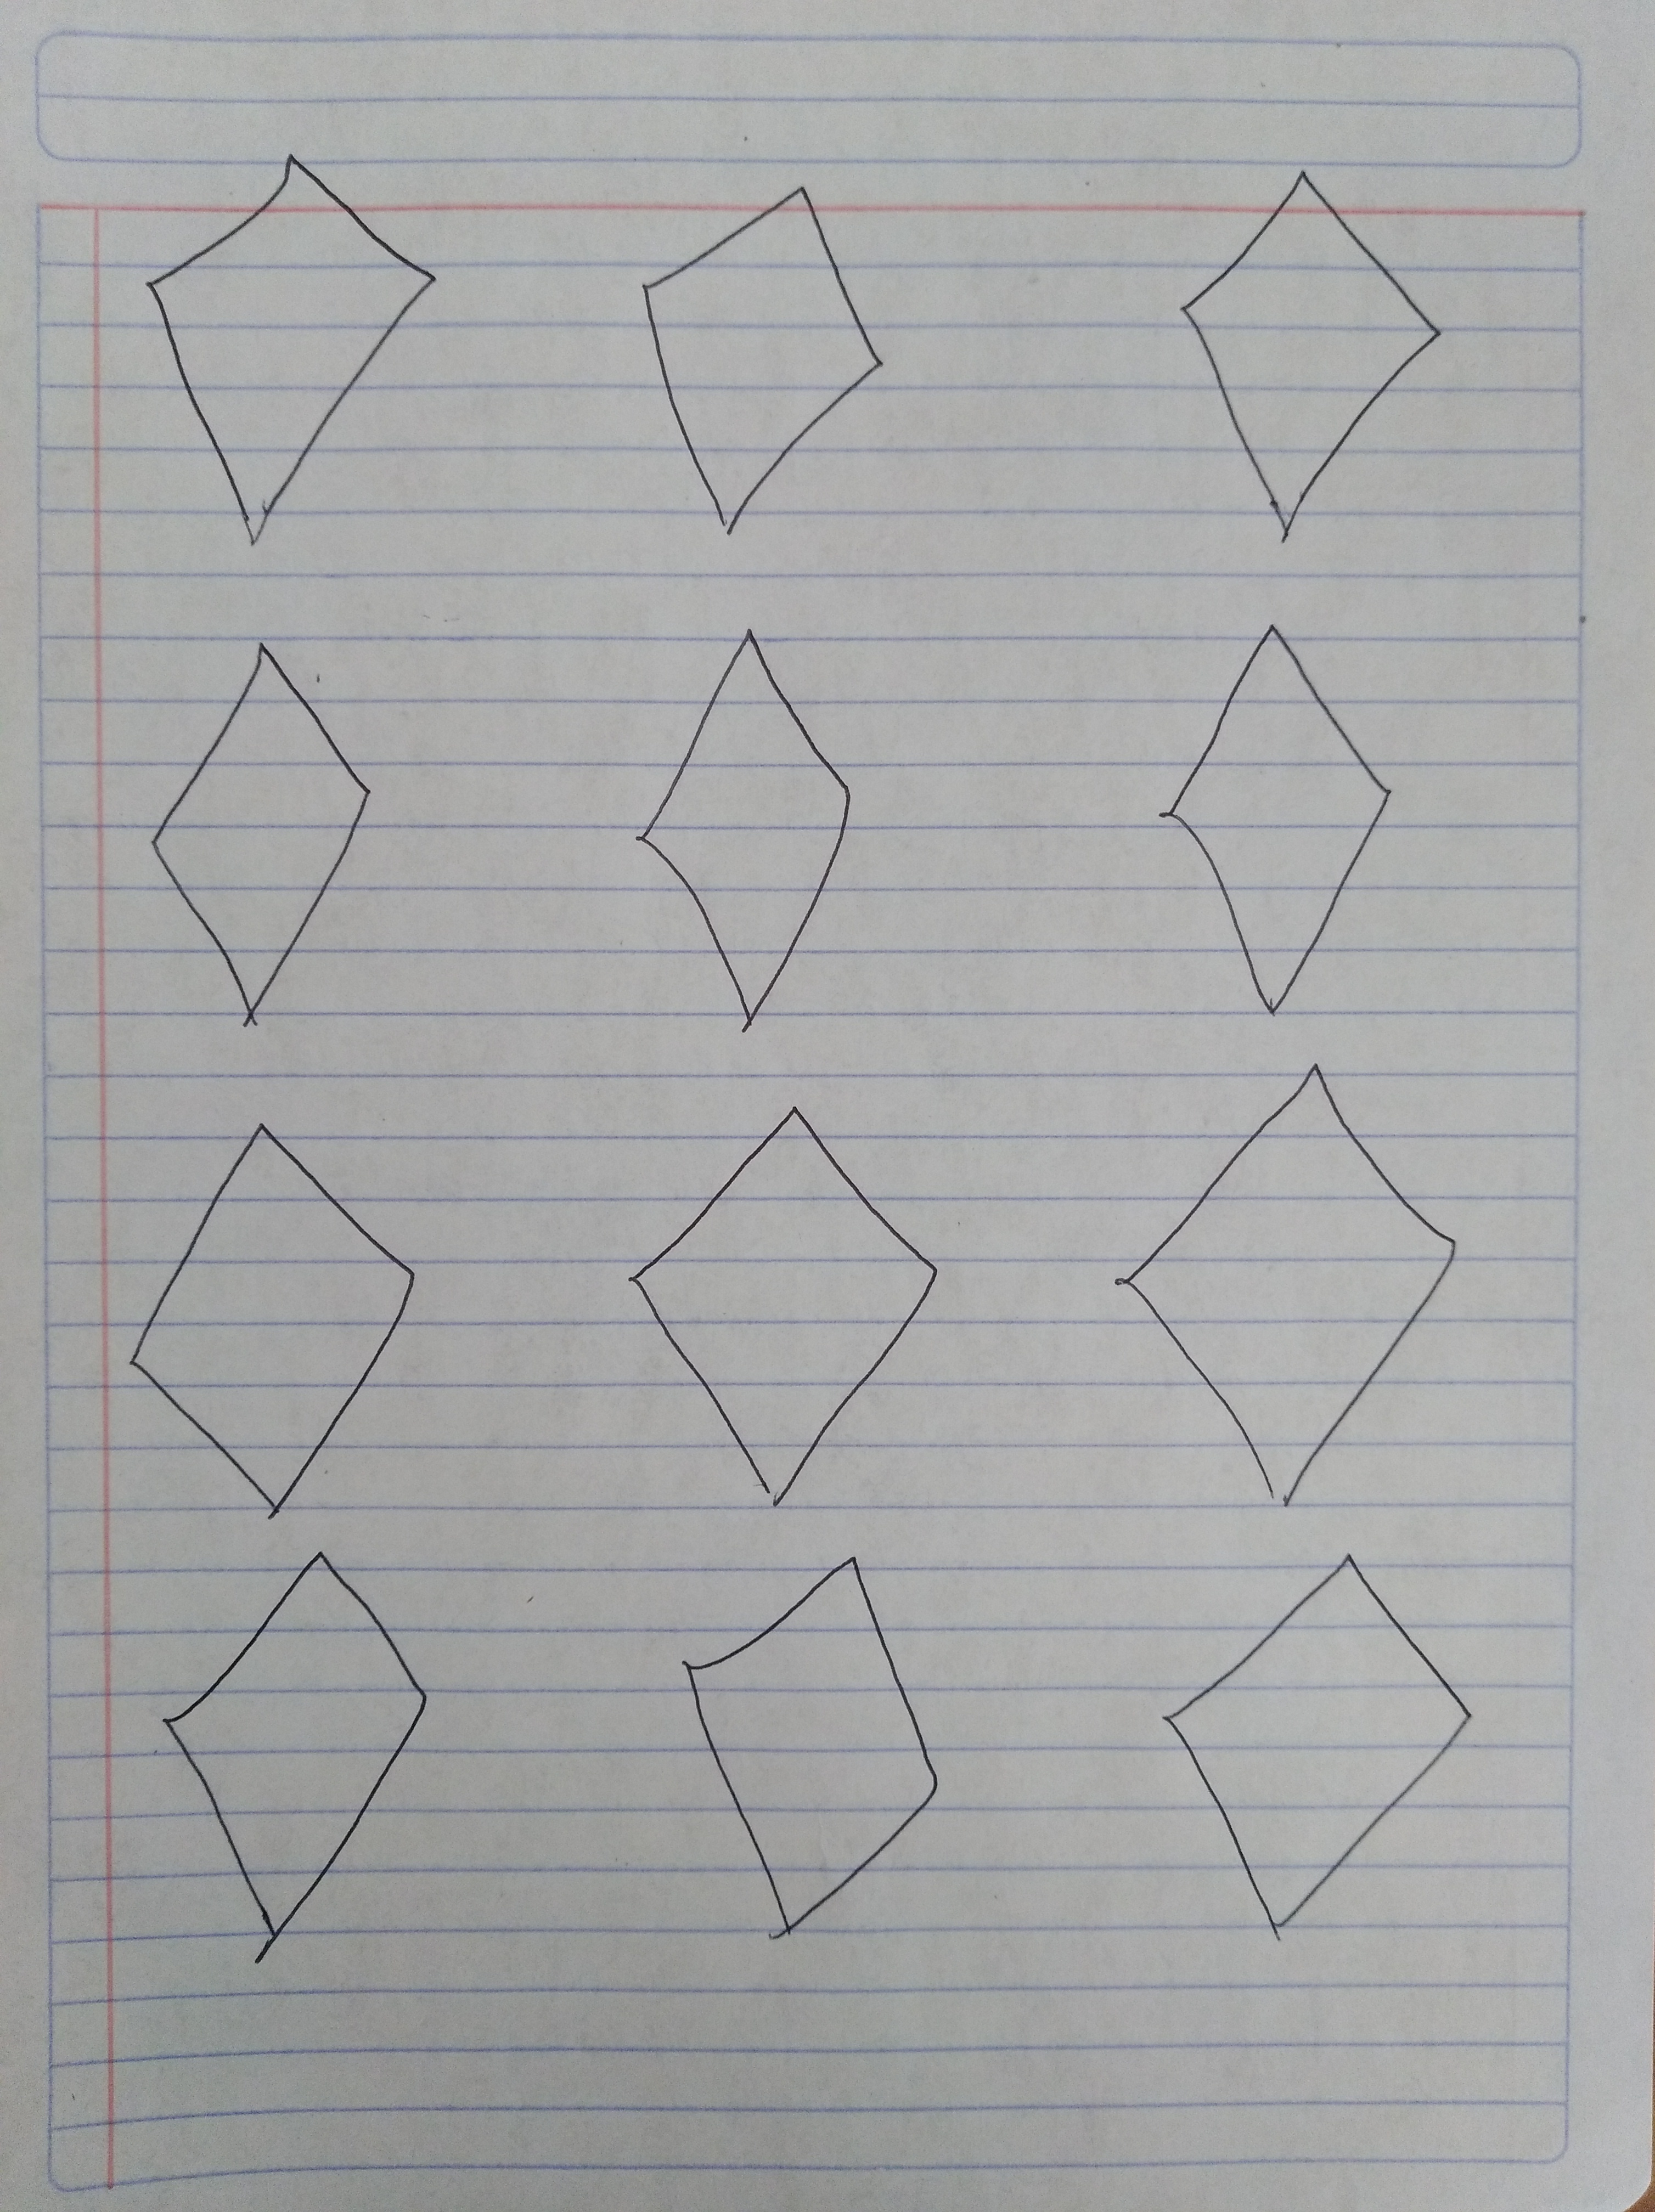decision: (1097, 1051, 1479, 1519), (90, 1102, 445, 1533), (608, 1083, 951, 1526), (130, 1545, 468, 1991), (115, 127, 457, 565), (1144, 1540, 1488, 1957), (648, 1540, 974, 1967), (593, 605, 897, 1055), (1151, 139, 1460, 565), (608, 142, 907, 566), (116, 619, 402, 1053), (1130, 610, 1422, 1034)
